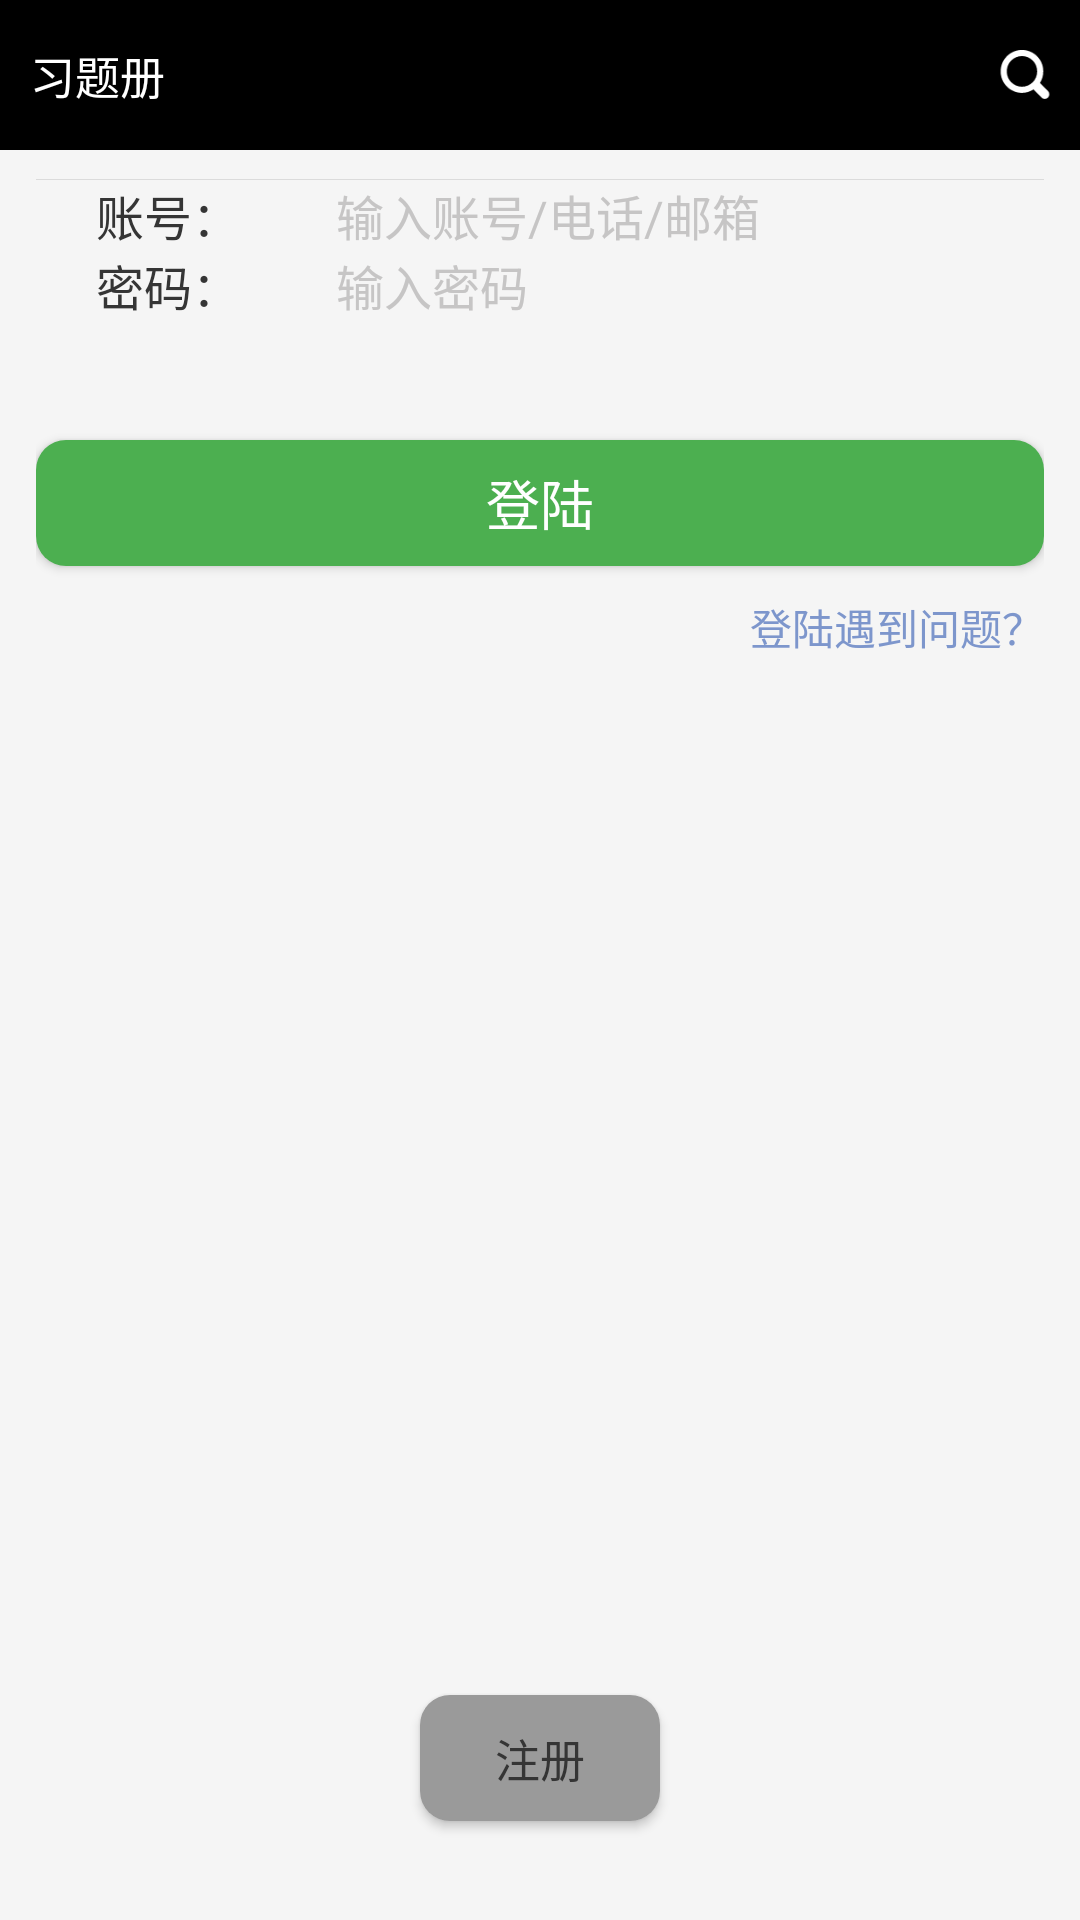

Named icons in this screenshot (1080x1920) and their centers, point (x, y):
search: point (1025, 74)
